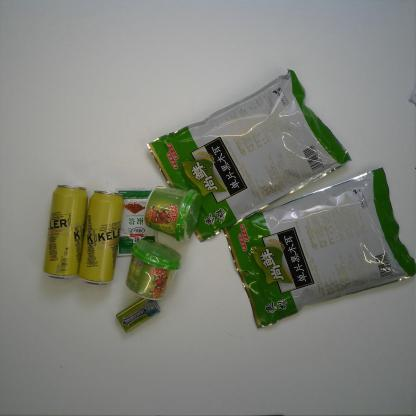Alcohol: (78, 190, 126, 286), (42, 183, 89, 280)
Dried Food: (146, 66, 354, 243), (220, 166, 416, 330)
Gum: (115, 297, 160, 333)
Instant Drink: (142, 185, 204, 243), (124, 239, 182, 301)
Seasoner: (115, 187, 158, 258)
